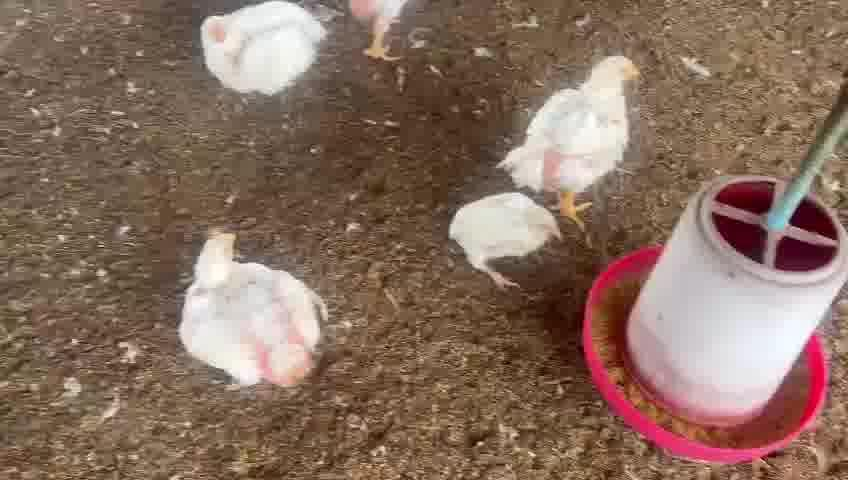AbNormal: (439, 180, 573, 294)
Normal: (173, 221, 341, 399), (504, 39, 648, 215), (181, 0, 333, 104)
